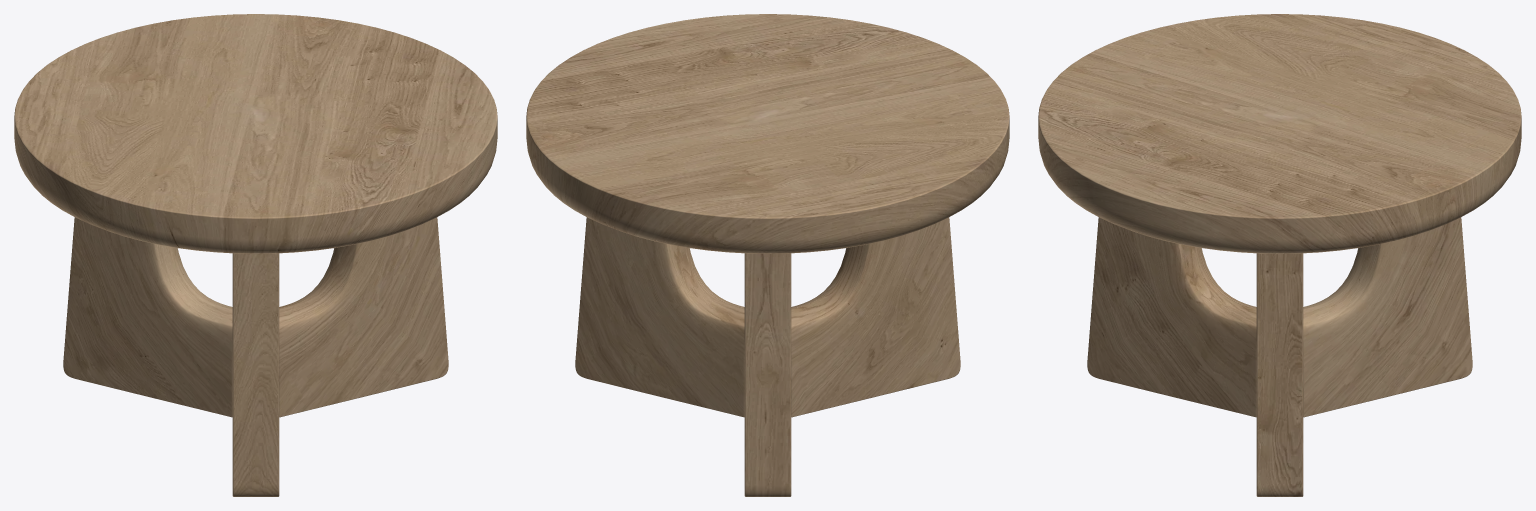
Rendered from tiny_desk.glb.
3 renders of one model, left to right at view 1: azimuth 30°, elevation 25°; view 2: azimuth 150°, elevation 25°; view 3: azimuth 270°, elevation 25°, orthographic.
Parts seen in each view (by area): view 1: SM_Coffe_Table_2; view 2: SM_Coffe_Table_2; view 3: SM_Coffe_Table_2.
Boxes of the visible parts, x1,y1,x2,y2 form: SM_Coffe_Table_2: (14, 14, 497, 496); SM_Coffe_Table_2: (526, 14, 1009, 496); SM_Coffe_Table_2: (1038, 14, 1521, 496).
Bounding box in the file's own units: 0.5761 × 0.3902 × 0.5761.
1 material, 1 textured.
